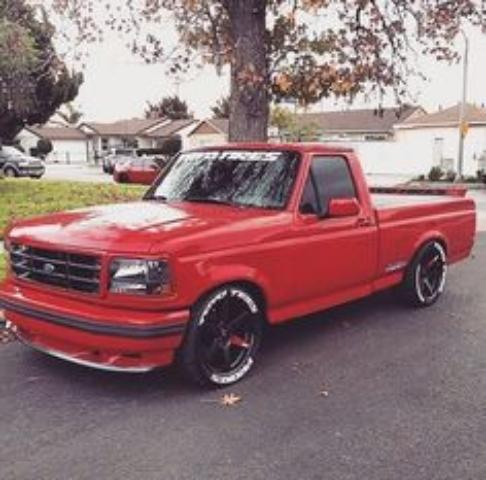pickup-truck: (1, 141, 479, 388)
